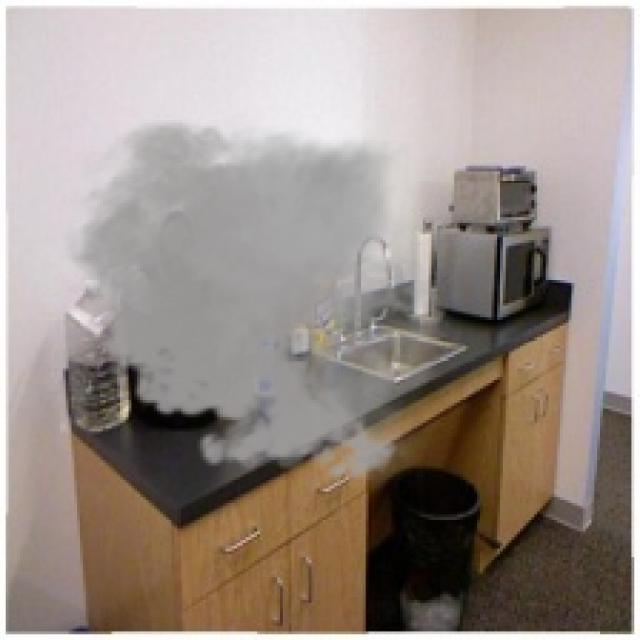smoke: (48, 106, 463, 491)
